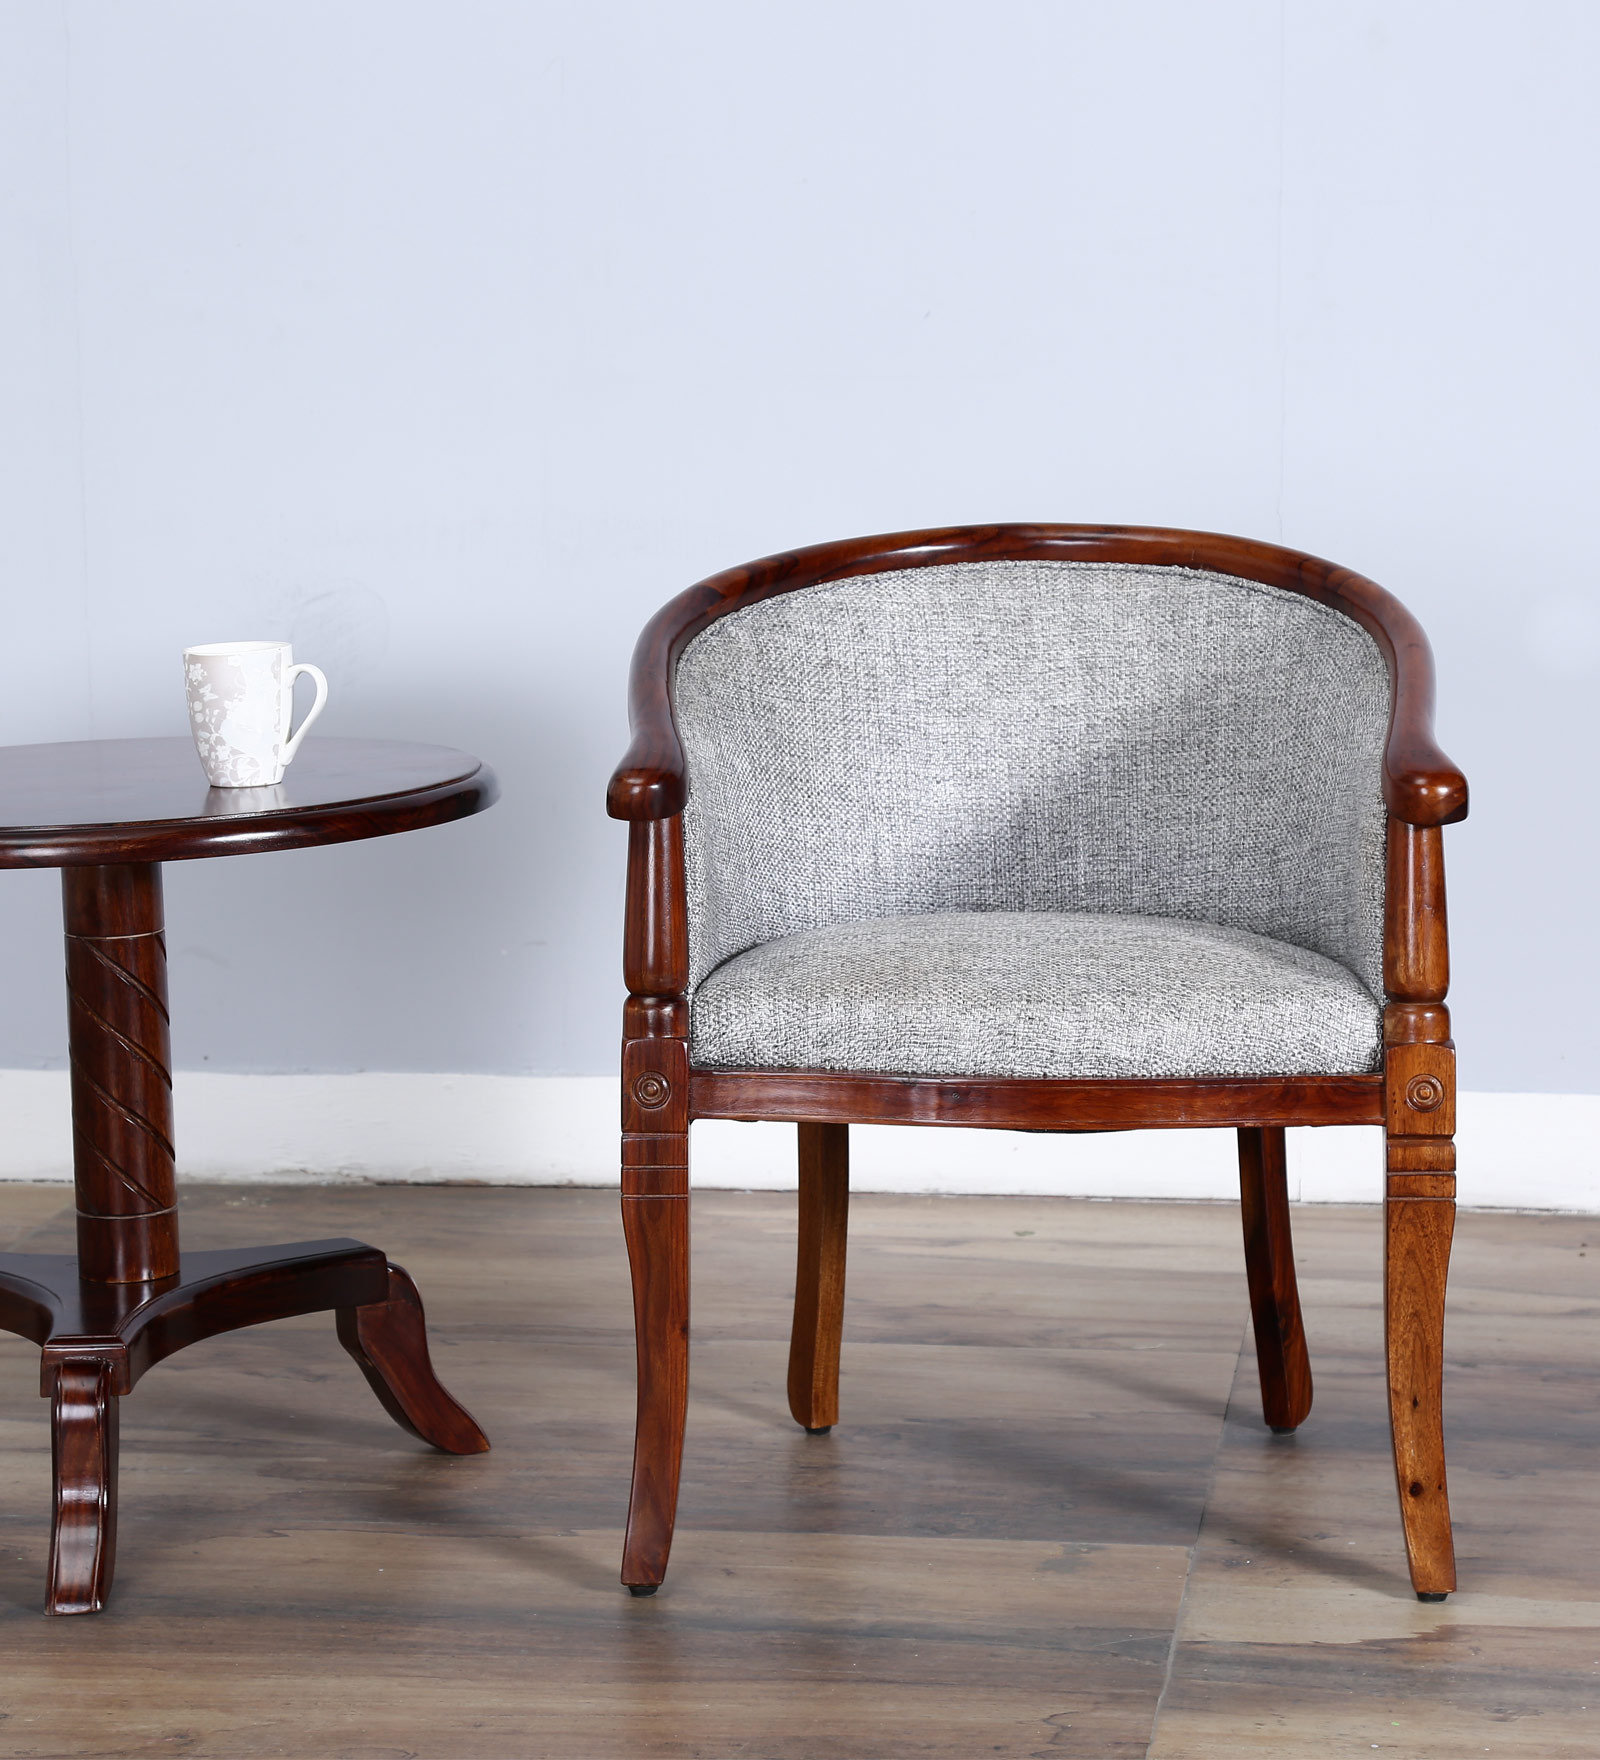Stalley Arm Chair in Grey Color with Honey Oak Finish by Amberville: (523, 472, 1539, 1659)
